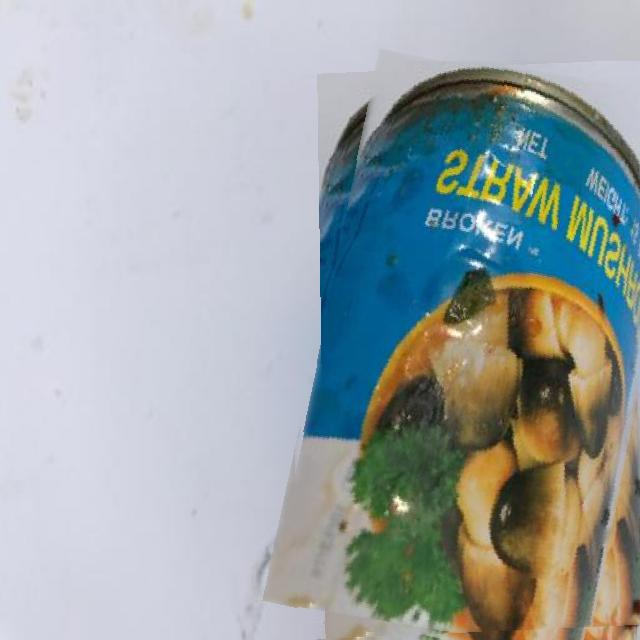recyclable: (289, 61, 640, 640)
